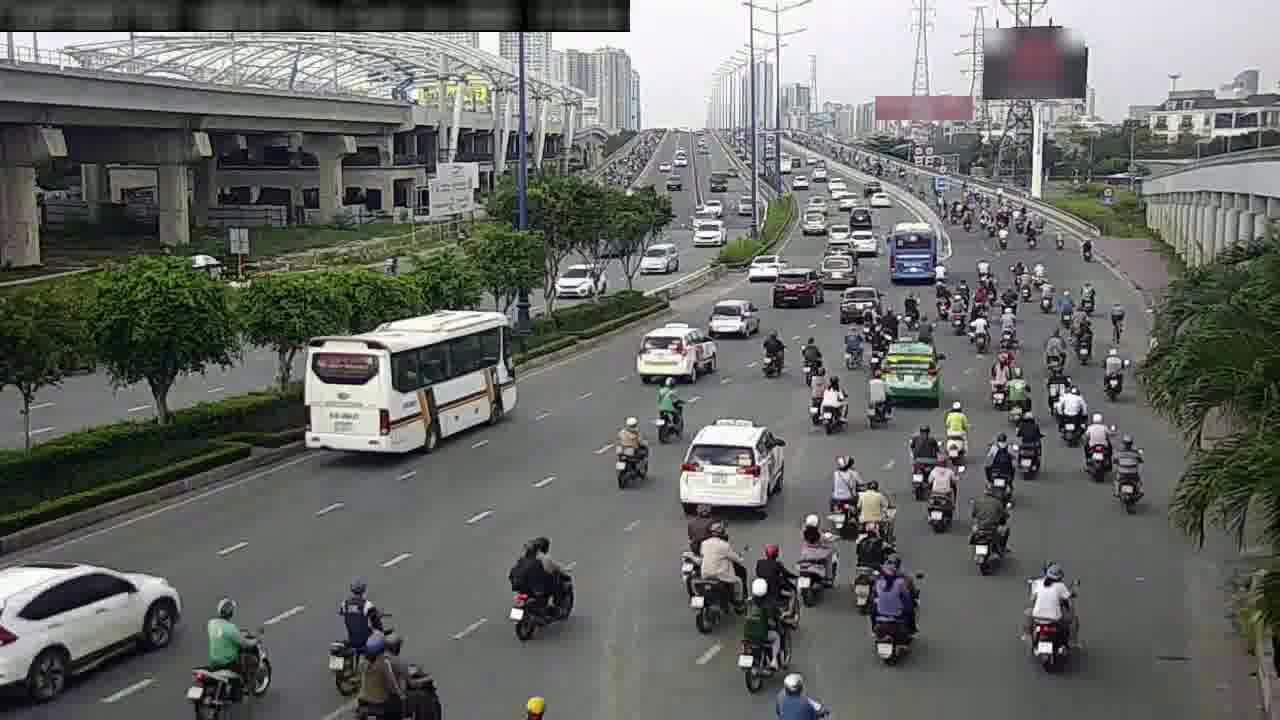14: (305, 311, 515, 455), (887, 220, 938, 283)
container: (0, 551, 177, 700), (680, 418, 785, 515), (634, 314, 712, 396), (880, 339, 942, 400), (774, 267, 820, 306), (709, 296, 757, 333), (839, 286, 884, 318), (820, 255, 858, 288), (744, 252, 776, 282)
motorbike: (187, 596, 271, 720), (324, 575, 404, 700), (354, 633, 459, 720), (506, 520, 581, 641), (869, 542, 924, 672), (1028, 553, 1082, 670), (734, 577, 788, 690), (789, 511, 840, 606), (611, 401, 661, 491), (696, 526, 738, 632), (964, 483, 1011, 575), (1253, 576, 1278, 720), (1114, 416, 1148, 518), (1084, 384, 1120, 479), (852, 475, 899, 542), (824, 452, 862, 530), (925, 449, 959, 527), (650, 373, 689, 435), (1018, 417, 1047, 488), (755, 328, 789, 382), (865, 368, 893, 430), (984, 429, 1013, 487), (1054, 387, 1083, 443), (912, 418, 933, 494), (1042, 323, 1070, 380), (943, 398, 969, 458), (1071, 312, 1098, 367), (816, 380, 842, 437), (990, 353, 1015, 409), (800, 332, 825, 385), (1103, 351, 1129, 397), (1006, 366, 1033, 410), (996, 304, 1024, 346), (1107, 302, 1129, 346), (842, 323, 863, 369), (900, 287, 922, 330), (949, 291, 970, 330), (930, 280, 951, 319), (971, 310, 989, 352), (1078, 277, 1097, 314), (1035, 277, 1054, 312)
